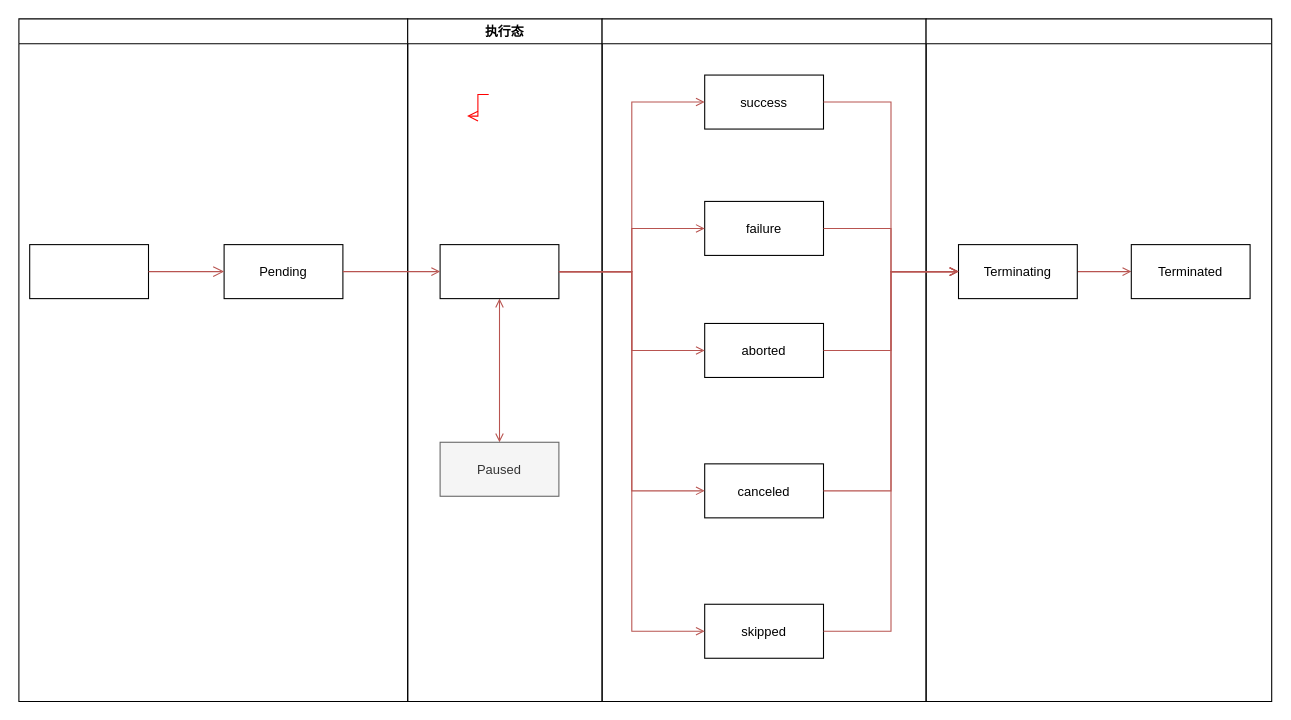
The diagram is 1291 pixels wide and 720 high, and some of its shapes have lost their labels. Here are the shapes that lost their labels. From the top down, the box of each, then its label:
(29, 244, 148, 299): Init
(439, 244, 559, 299): Running
(18, 18, 408, 701): 待执行
(601, 18, 926, 701): 完成态
(925, 18, 1272, 701): 终止态
